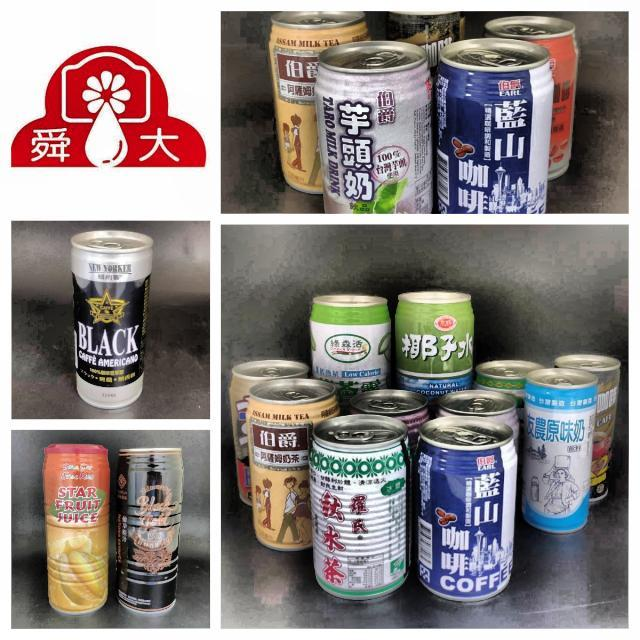Aluminum Can: (312, 36, 443, 219), (436, 34, 550, 218), (268, 0, 370, 201), (410, 414, 518, 599), (309, 412, 414, 598), (58, 212, 154, 411), (244, 376, 345, 554), (481, 12, 579, 180), (38, 437, 116, 619), (227, 348, 312, 512), (520, 364, 598, 534), (114, 442, 186, 616), (305, 288, 401, 411), (554, 343, 624, 506), (391, 287, 478, 398), (350, 381, 436, 446), (434, 384, 529, 434), (385, 2, 468, 55), (472, 351, 546, 402)
